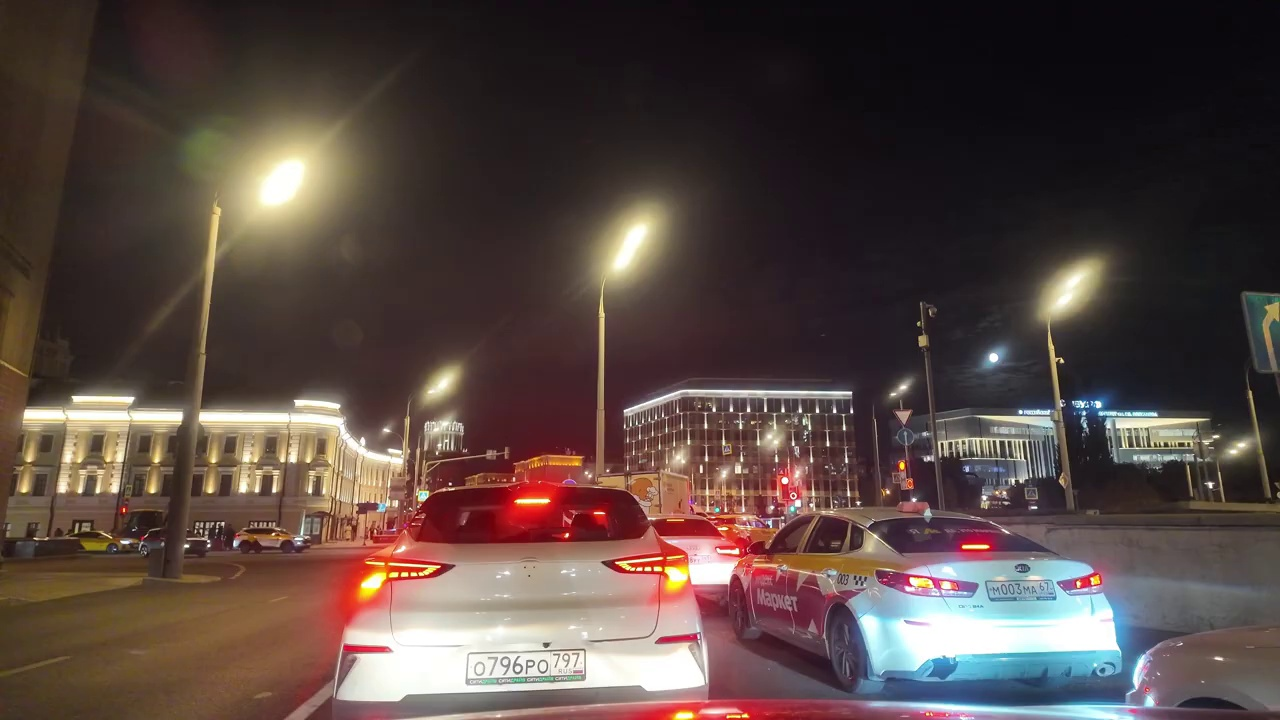acesa: (225, 145, 324, 229), (245, 150, 313, 219), (601, 212, 662, 283), (1041, 258, 1103, 323), (419, 362, 462, 404)
